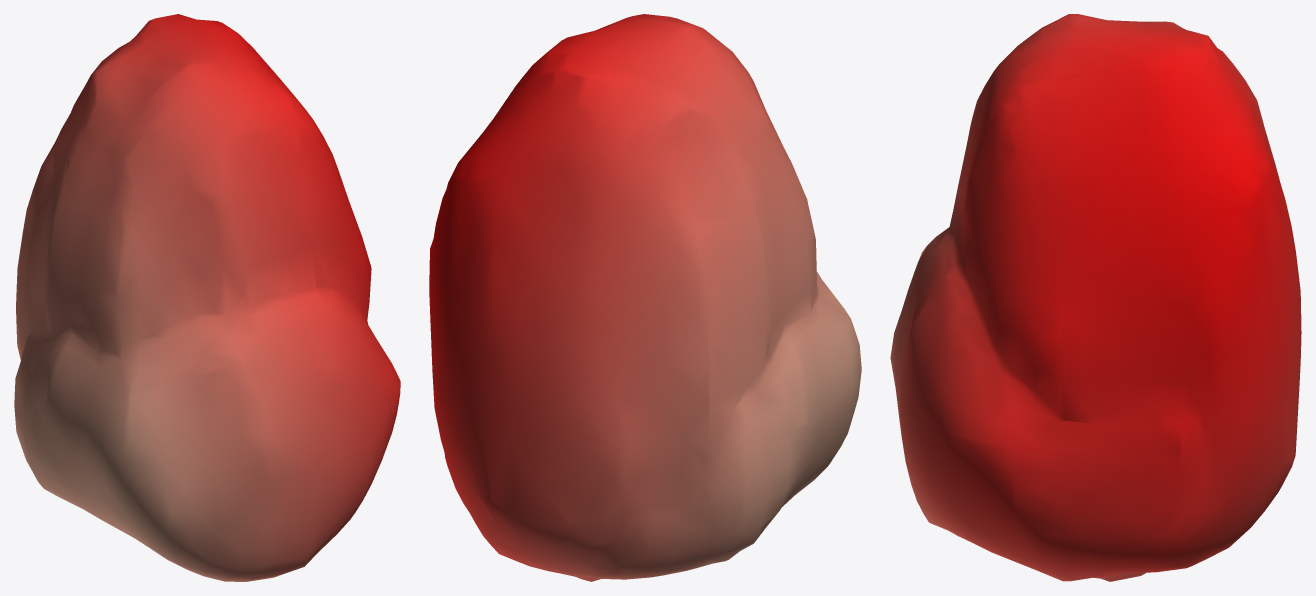
The model's file is Jasper.fbx.
3 views of the same model, side by side, from view 1: azimuth 30°, elevation 25°; view 2: azimuth 150°, elevation 25°; view 3: azimuth 270°, elevation 25° (orthographic). The views are drawn at different scales.
Parts seen in each view (by area): view 1: JASPER.001; view 2: JASPER.001; view 3: JASPER.001.
Part boxes in pixels (x1,y1,x2,y2): JASPER.001: [14, 14, 400, 581]; JASPER.001: [429, 14, 861, 581]; JASPER.001: [890, 14, 1301, 581].
Size of the model in its own units: 118 by 187 by 130.
Materials: 1 (1 with a texture image).
